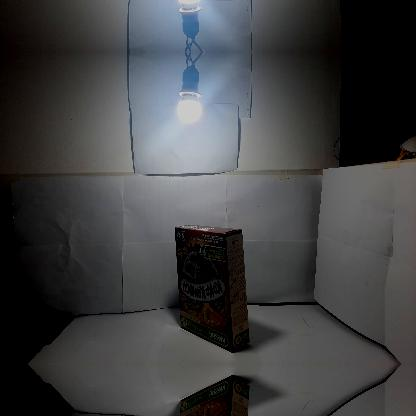Koko-Krunch: (174, 224, 250, 352), (174, 375, 251, 415)
